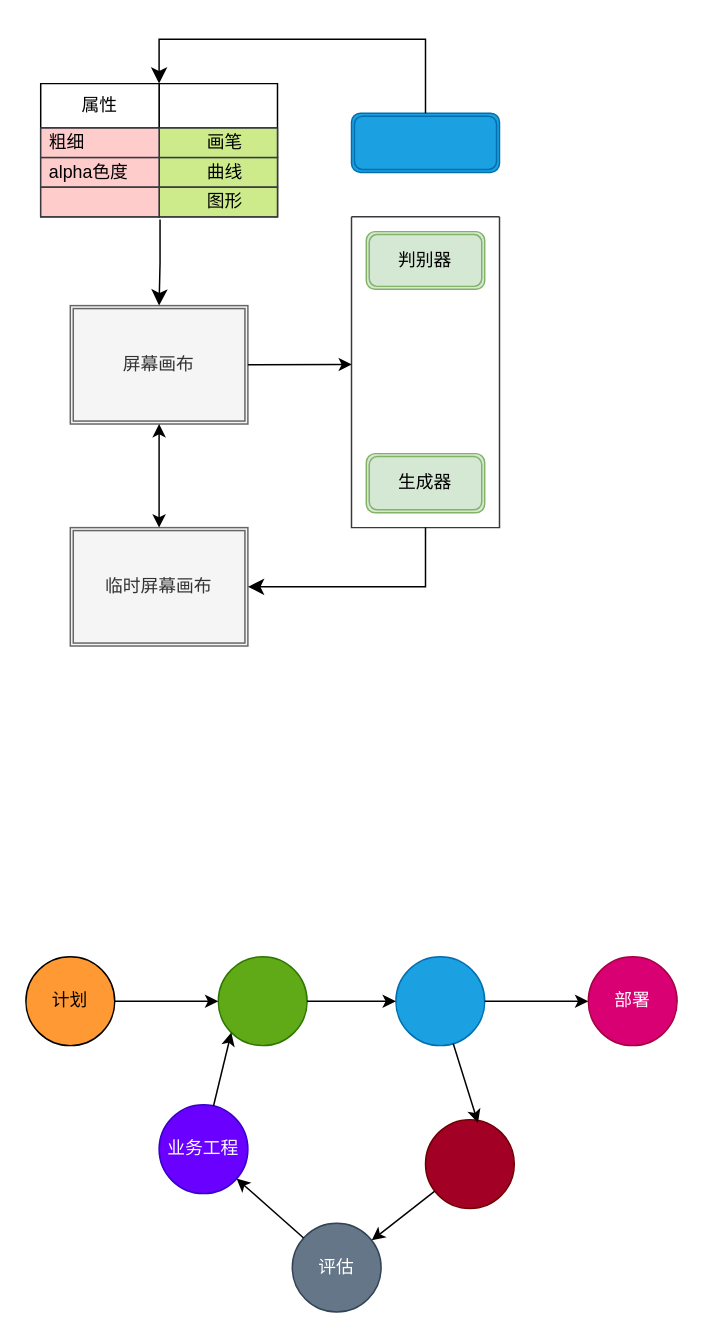
This 703x1338 diagram has some shape labels left out. Here are the shapes that lost their labels. From the top down, the box of each, then its label:
(158, 82, 278, 217): 成员对象
(350, 112, 500, 172): 用户
(39, 186, 159, 217): 颜色
(350, 215, 500, 528): GAN
(217, 955, 307, 1046): 需求
(394, 955, 485, 1046): 实施
(424, 1118, 514, 1208): 测试
